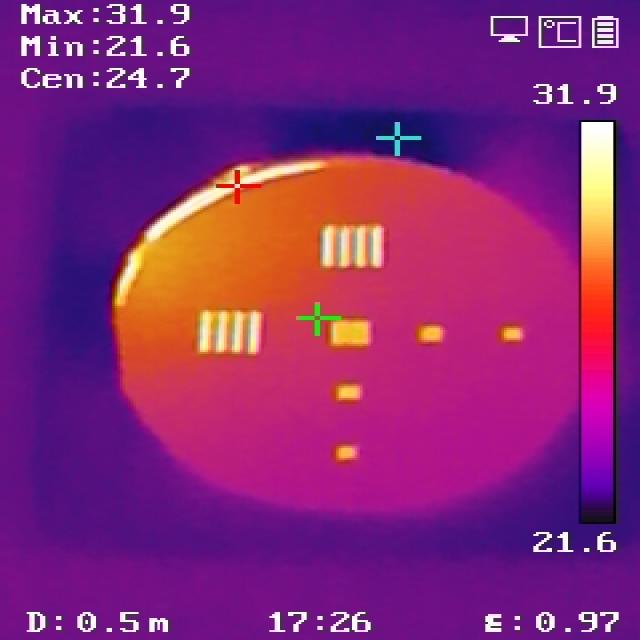Distinguishable 4-bar target: (316, 224, 389, 270), (197, 310, 263, 355)
Indistinguishable 4-bar target: (330, 318, 370, 346)
